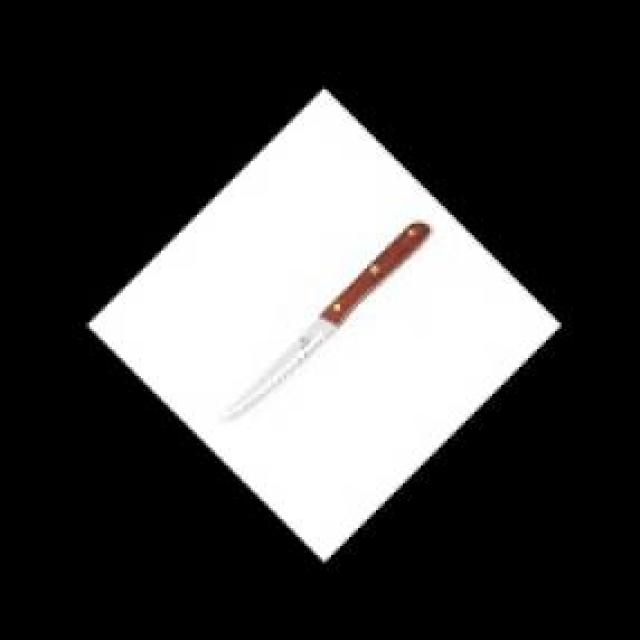knife: (221, 224, 434, 421)
